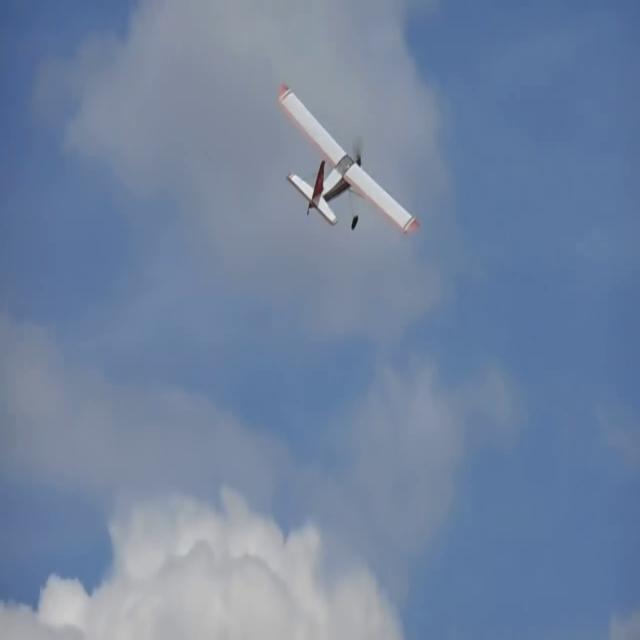iha: (282, 87, 414, 237)
